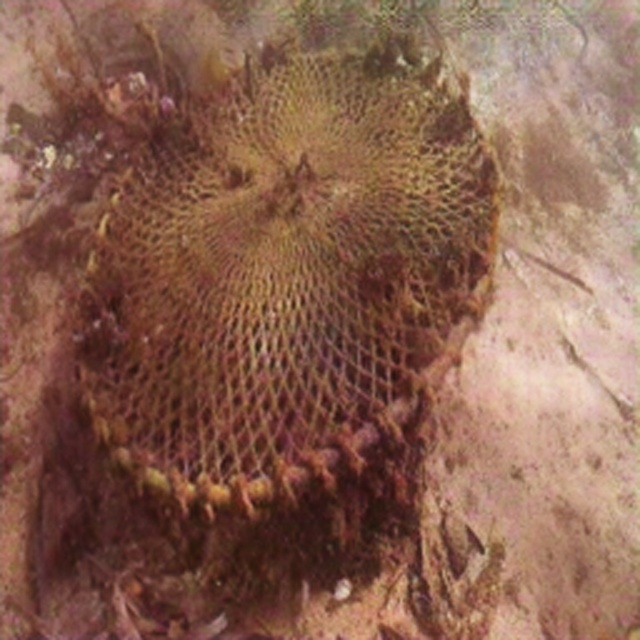mine: (75, 47, 501, 548)
